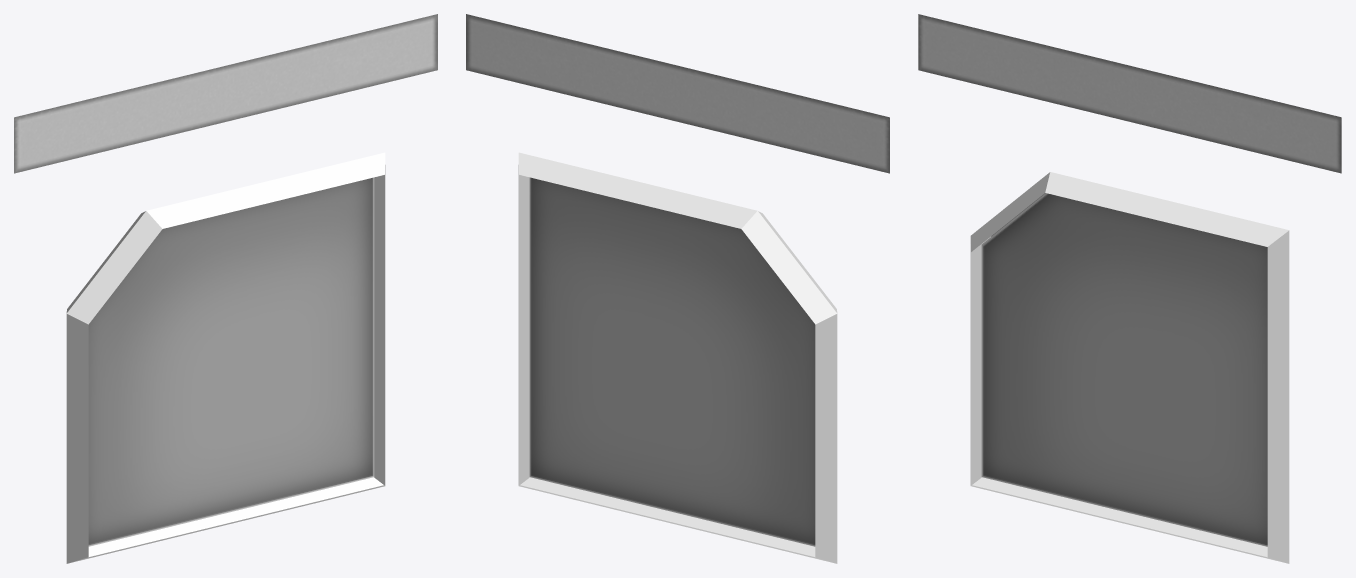
Rendered from ItemSmall.glb.
3 renders of one model, left to right at view 1: azimuth 30°, elevation 25°; view 2: azimuth 150°, elevation 25°; view 3: azimuth 330°, elevation 25°, orthographic.
Visible parts, largest first — view 1: object_0.001, object_0.003, object_0.002; view 2: object_0.001, object_0.003, object_0.002; view 3: object_0.001, object_0.003, object_0.002.
Boxes of the visible parts, box(x1,y1,x2,y2) form: object_0.001: box(88, 177, 374, 546); object_0.003: box(14, 14, 437, 173); object_0.002: box(66, 152, 385, 563); object_0.001: box(529, 177, 815, 546); object_0.003: box(466, 14, 889, 173); object_0.002: box(518, 152, 837, 563); object_0.001: box(981, 193, 1267, 546); object_0.003: box(918, 14, 1341, 173); object_0.002: box(970, 172, 1289, 563).
Bounding box in the file's own units: 100 × 104 × 8.75.
2 materials, 2 textured.
